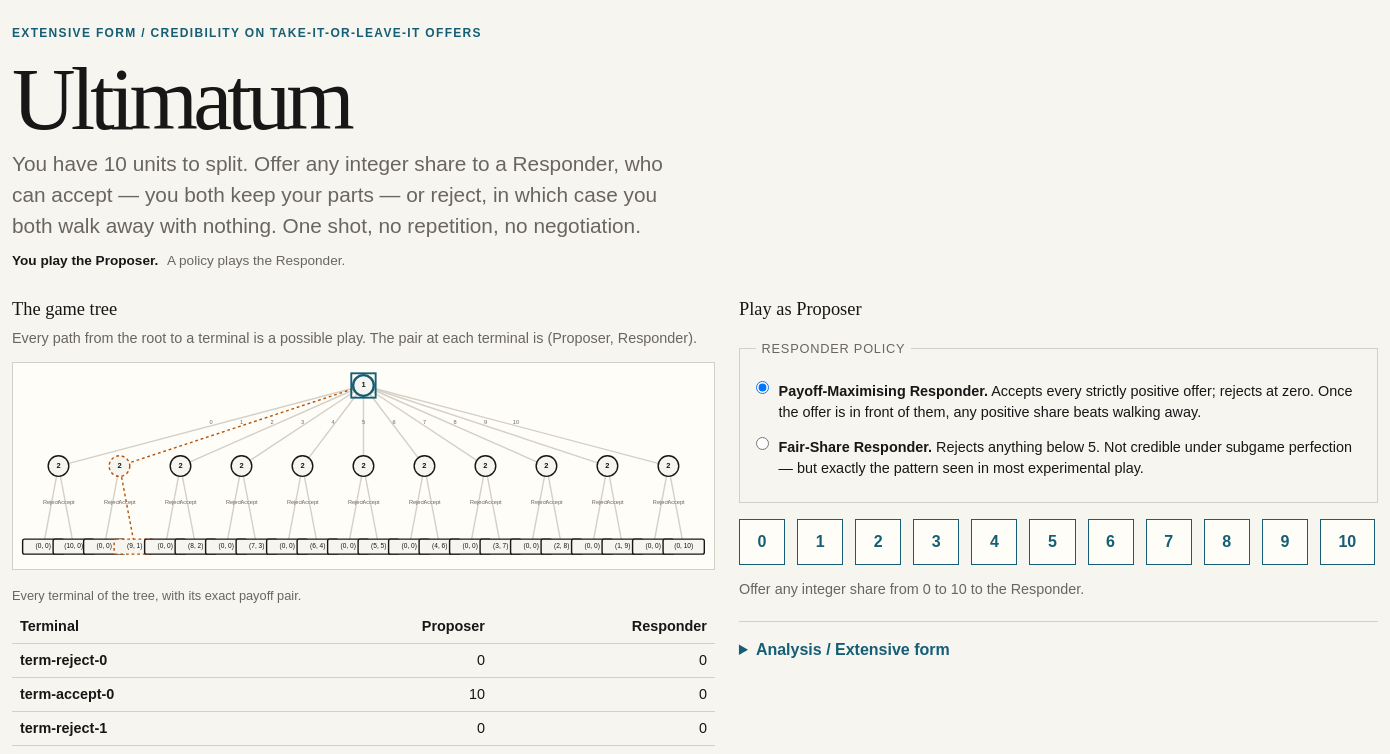
extensive-form play surface — ultimatum › offering 4 to the fair-share responder is rejected
Click the radio button labelled "Fair-Share Responder" at (762, 443), box [756,437,769,450]
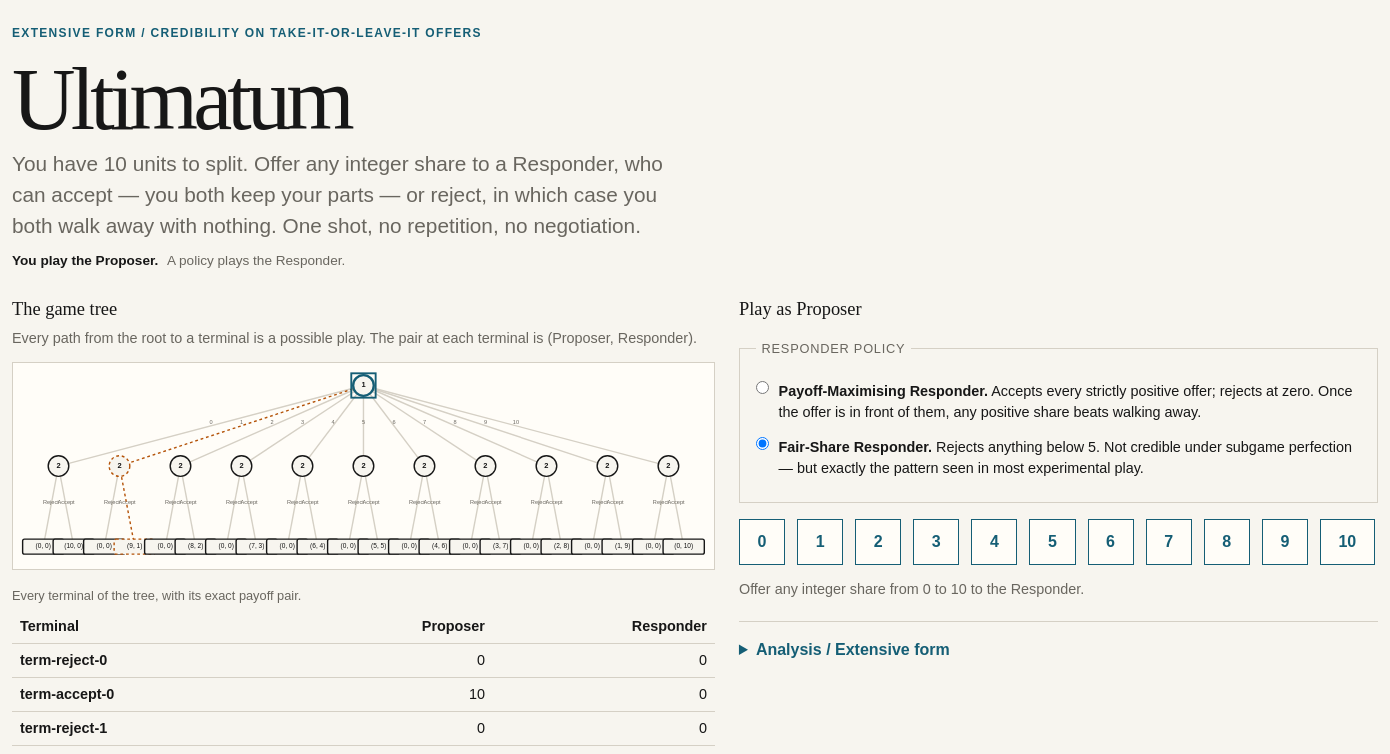
Click the button "4" at (994, 542), box [971,519,1017,565]
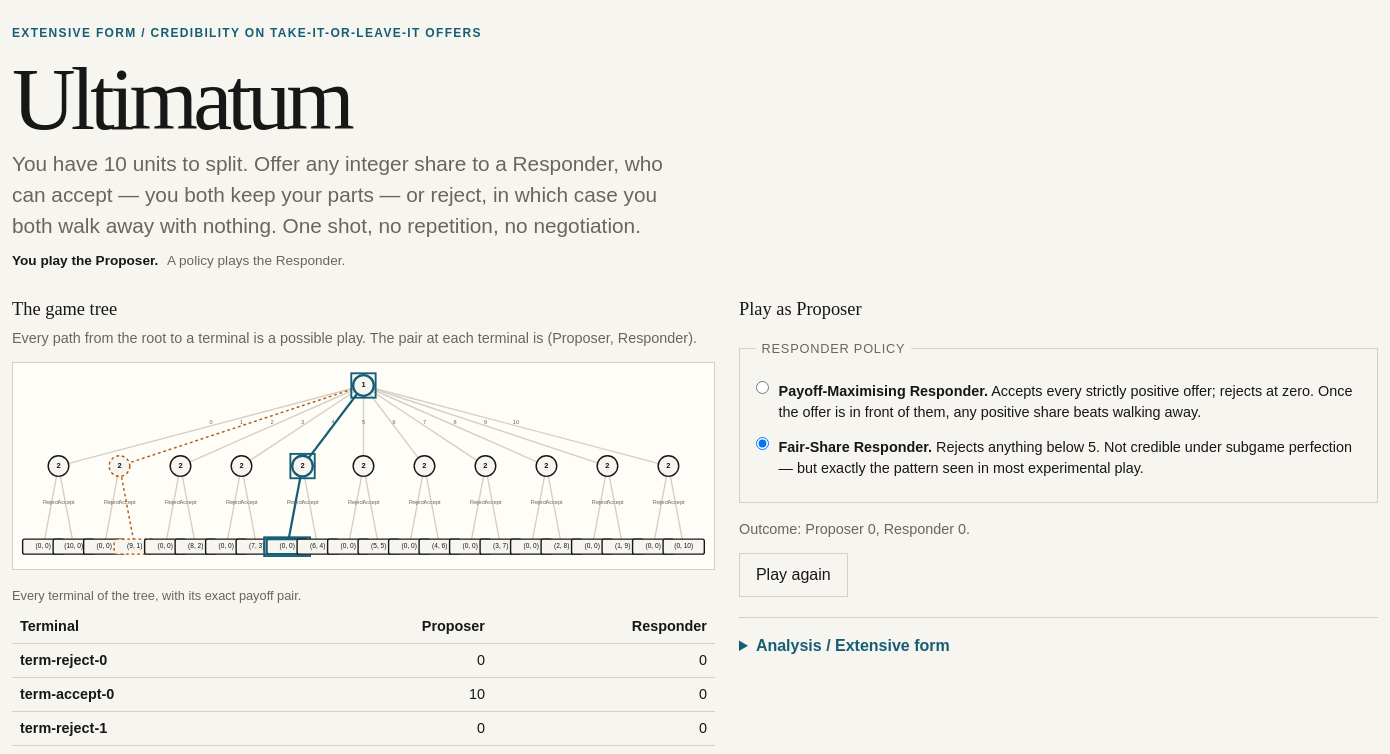
Now the text "Outcome: Proposer 0, Responder 0." is shown, box [739,521,970,537]
